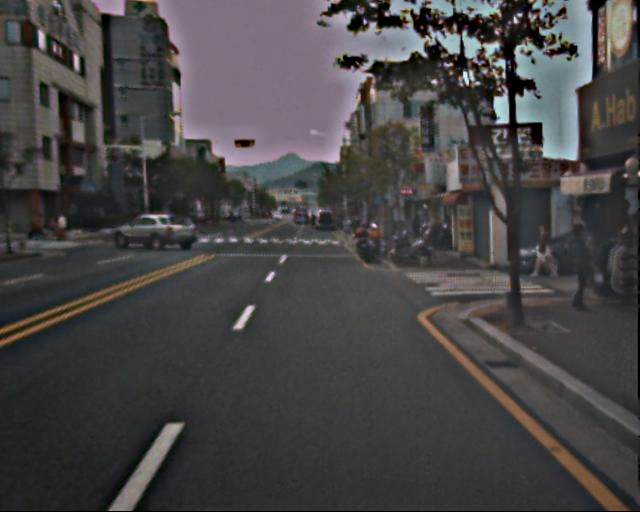person: (563, 226, 597, 309), (531, 223, 556, 282)
